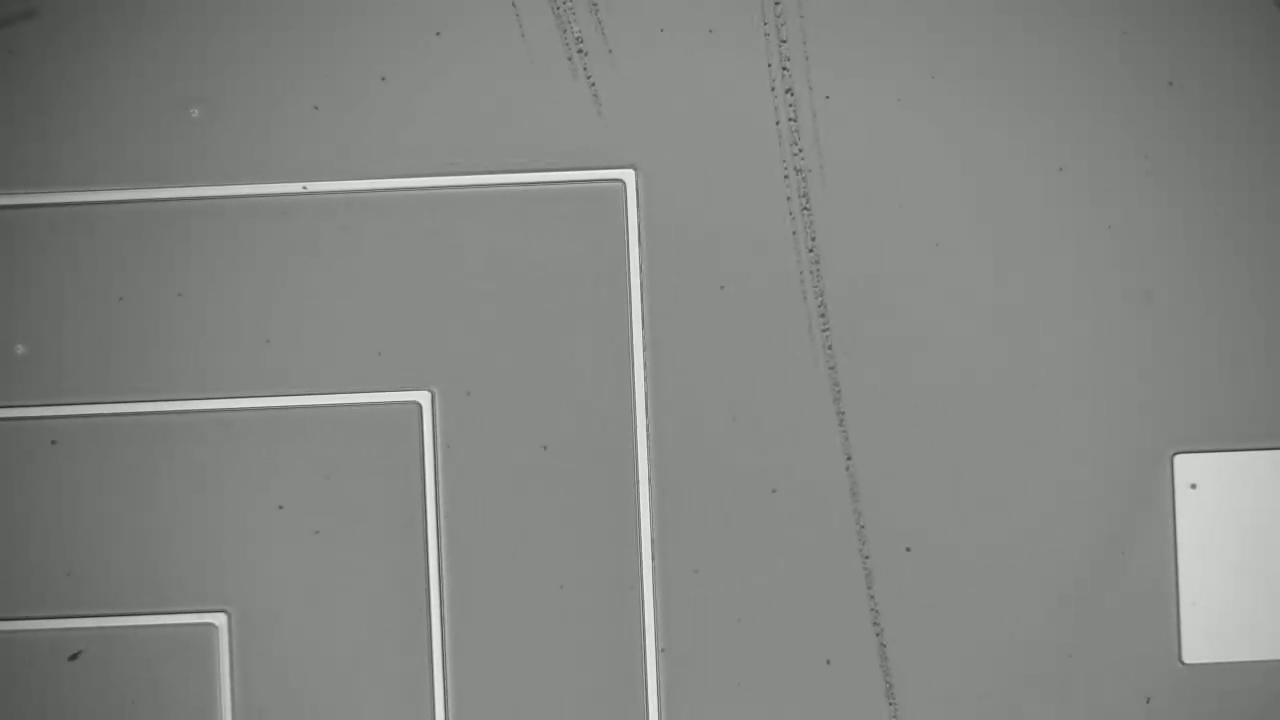scratch: (746, 1, 900, 711), (534, 1, 607, 107)
